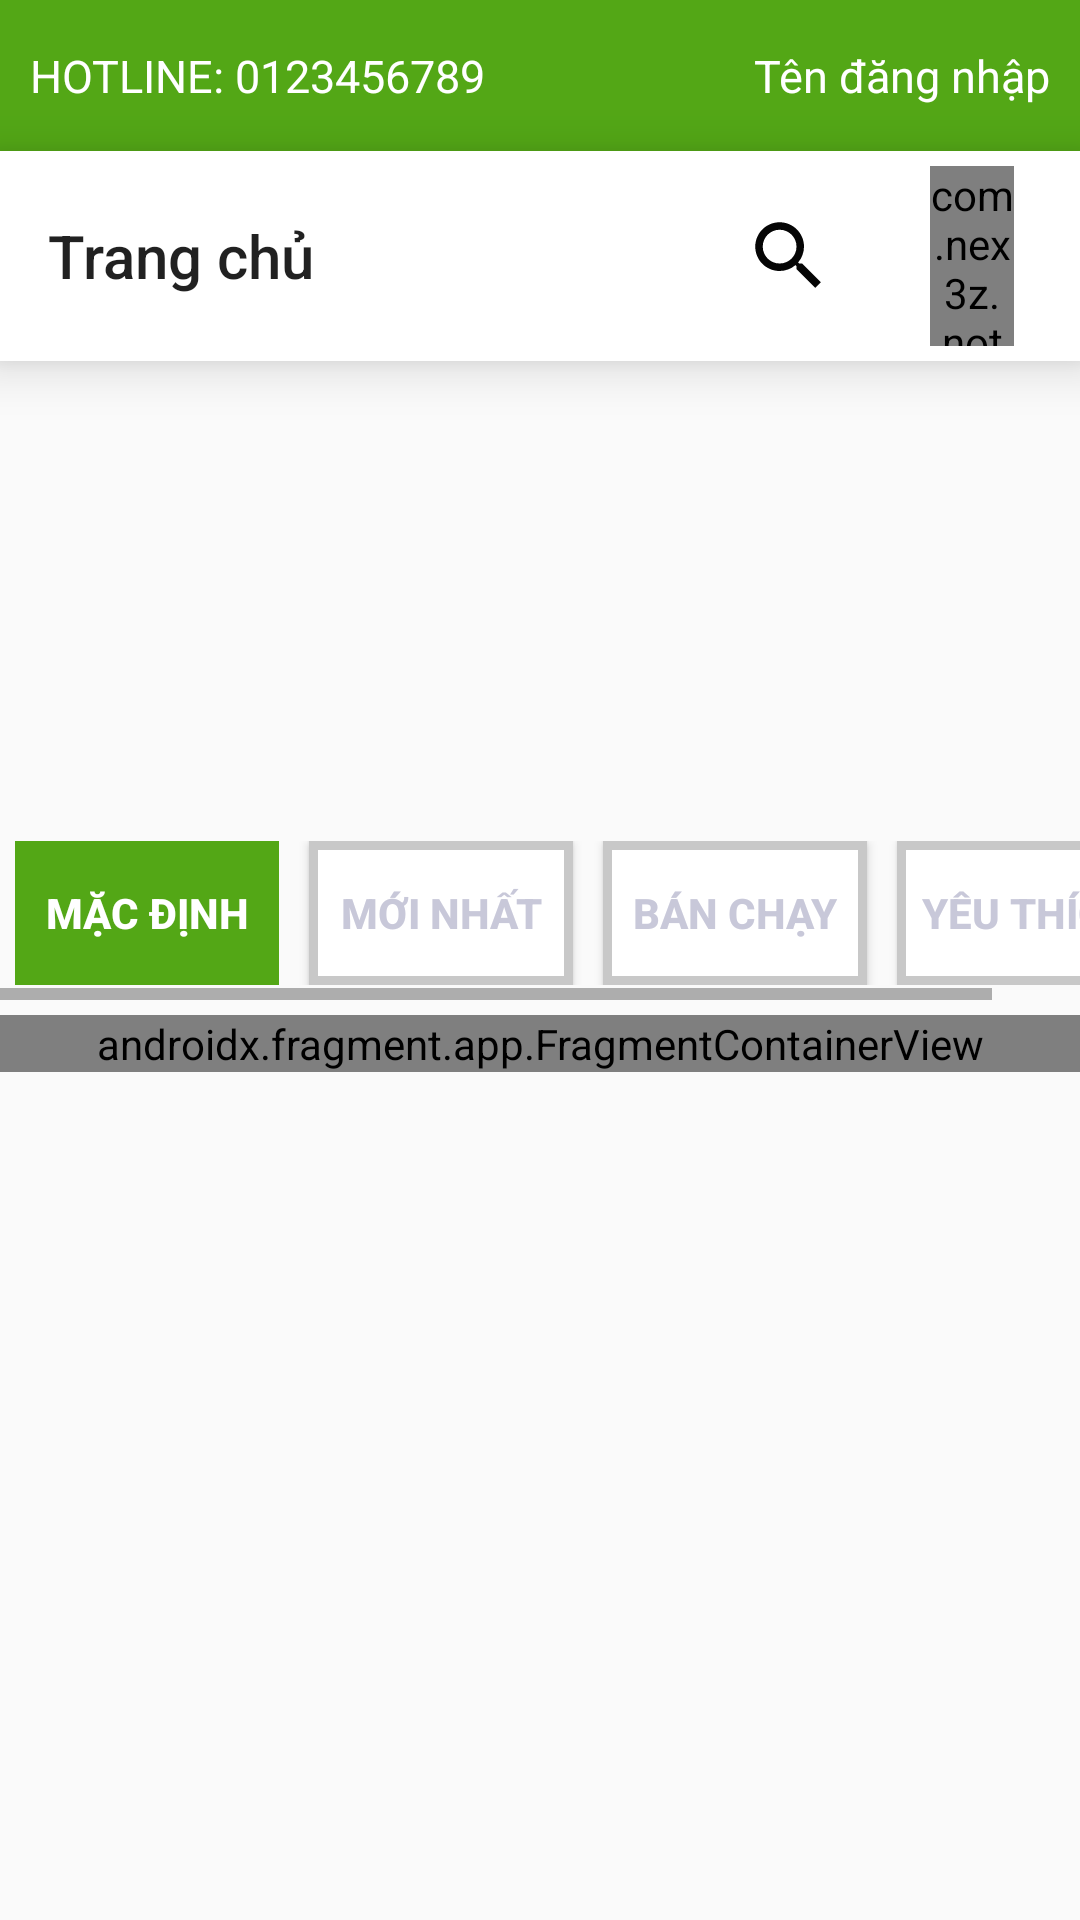

Icon click points for this 1080w x 1920h phone screenshot, format point (x, y):
search: point (788, 255)
